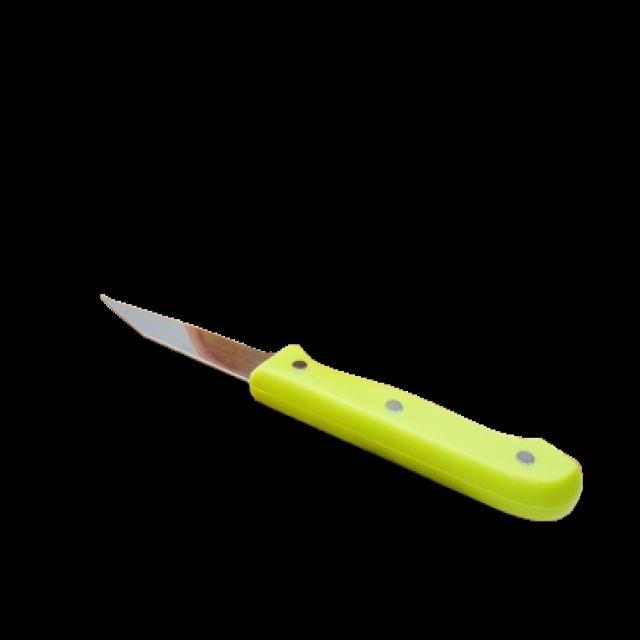knife: (97, 286, 591, 527)
